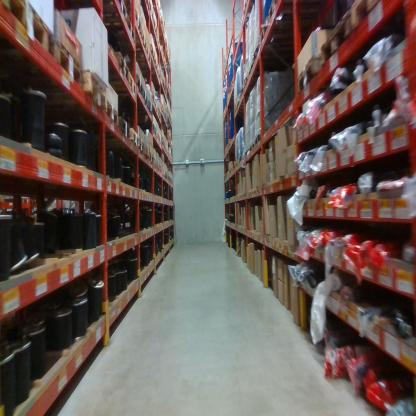pallet: (2, 3, 53, 63), (258, 17, 323, 47), (97, 47, 139, 93), (317, 9, 351, 62), (297, 57, 333, 107), (54, 38, 84, 96), (266, 1, 320, 28), (90, 12, 137, 43), (80, 70, 107, 112), (350, 4, 397, 28), (246, 60, 295, 82), (252, 46, 297, 66), (85, 1, 129, 19), (124, 10, 144, 38), (132, 73, 149, 105), (241, 0, 260, 25), (105, 101, 120, 127), (133, 103, 155, 115), (119, 117, 130, 140), (129, 126, 140, 149), (138, 140, 146, 158), (255, 131, 263, 148), (250, 140, 256, 155), (145, 146, 151, 159), (242, 76, 249, 87), (151, 155, 155, 165)
